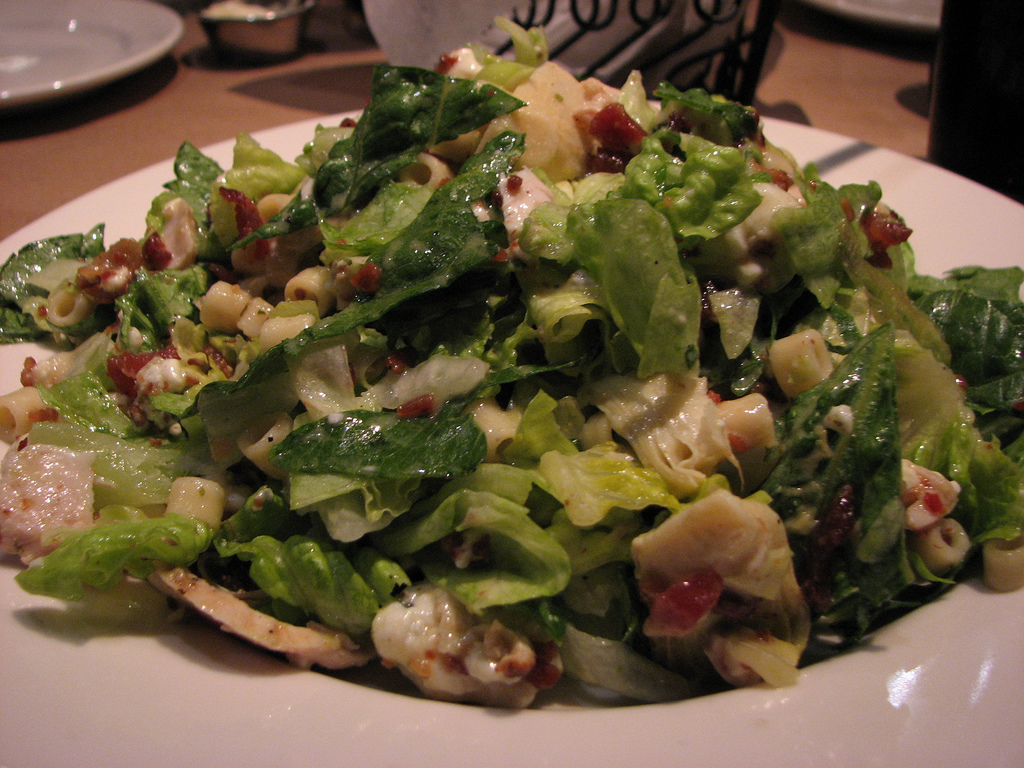chopped lettuce: (537, 458, 804, 638), (381, 181, 593, 358), (827, 258, 927, 468)
